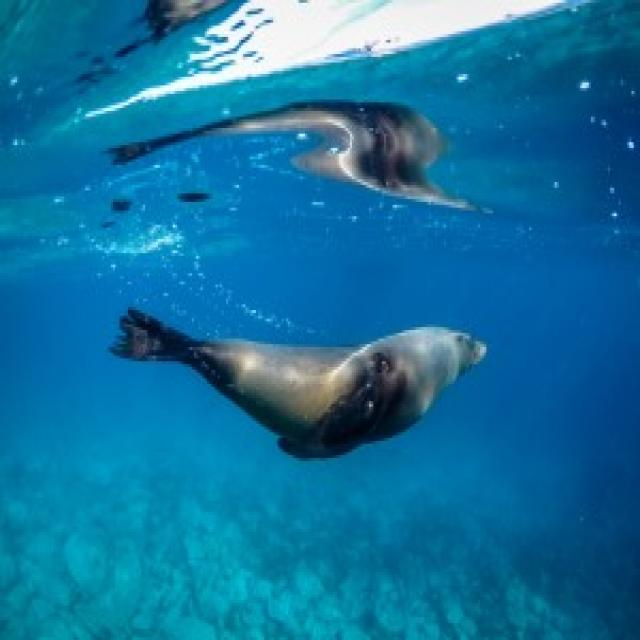Seal: (66, 294, 509, 482)
